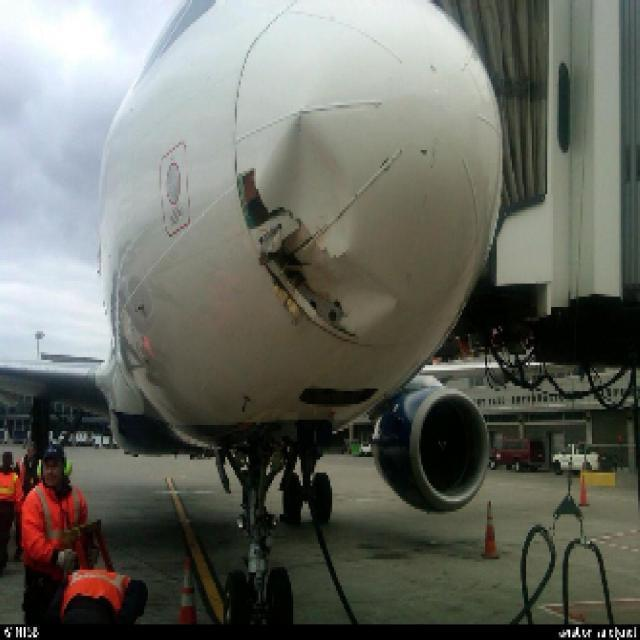dent: (266, 115, 356, 248), (328, 260, 400, 340)
